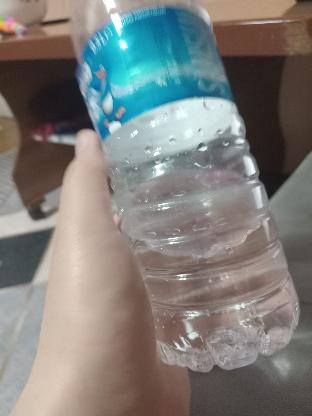Plastic Bottle: (48, 0, 312, 372)
